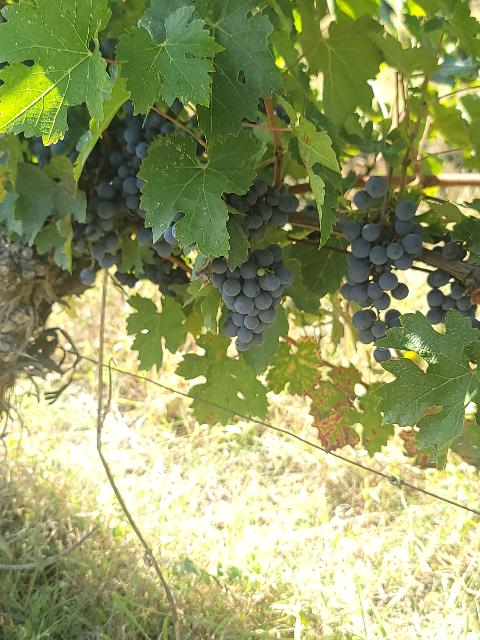grapes: (340, 200, 422, 344), (211, 244, 294, 351)
